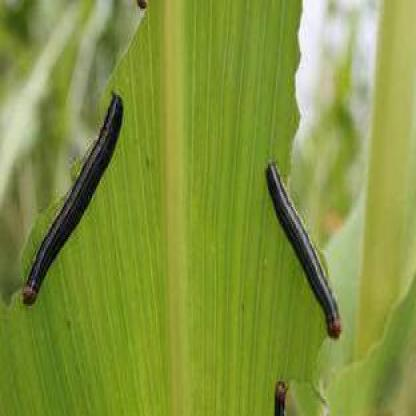armyworm: (24, 84, 125, 307), (268, 154, 346, 346), (274, 378, 296, 416)
